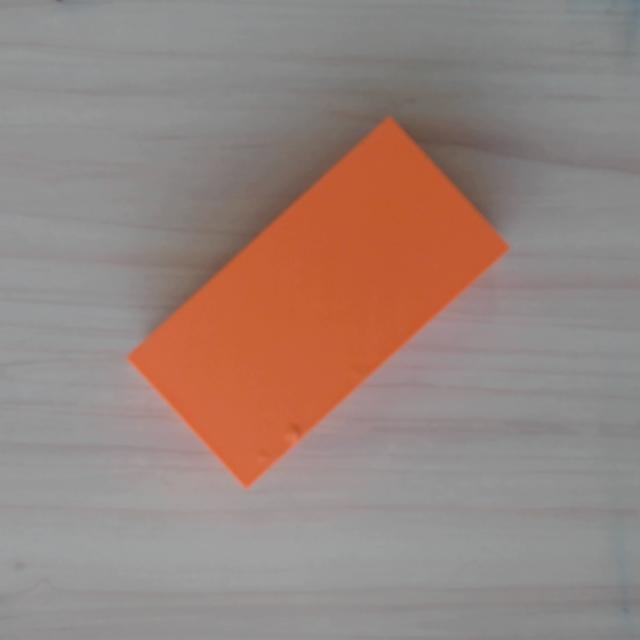Balok-Jingga-1005025: (124, 115, 511, 489)
